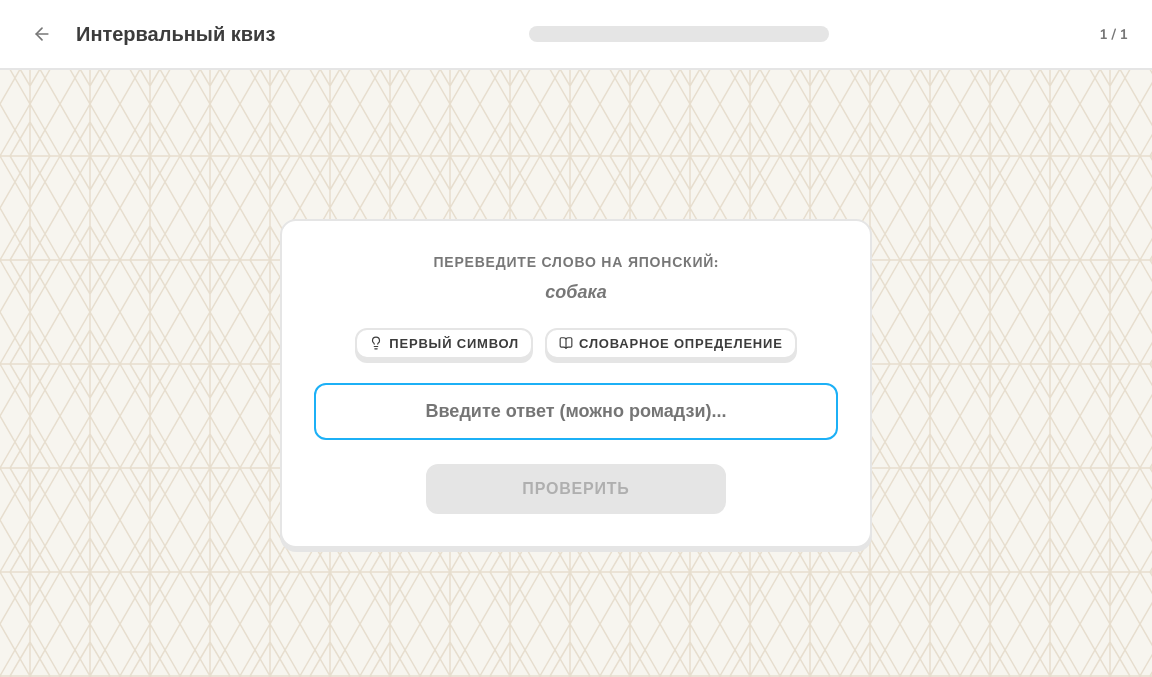
QuizPage Component › loads specific words in ad-hoc mode even if not due
The width and height of the screenshot is (1152, 677).
Expected: the text "Переведите слово на японский:" is shown, left=433, top=252, right=719, bottom=272
Expected: the text "собака" is shown, left=545, top=280, right=607, bottom=304
Type "ねко" into the field with placeholder "Введите ответ (можно ромадзи)...".
click(576, 411); type("ねко")  # box left=314, top=382, right=838, bottom=440
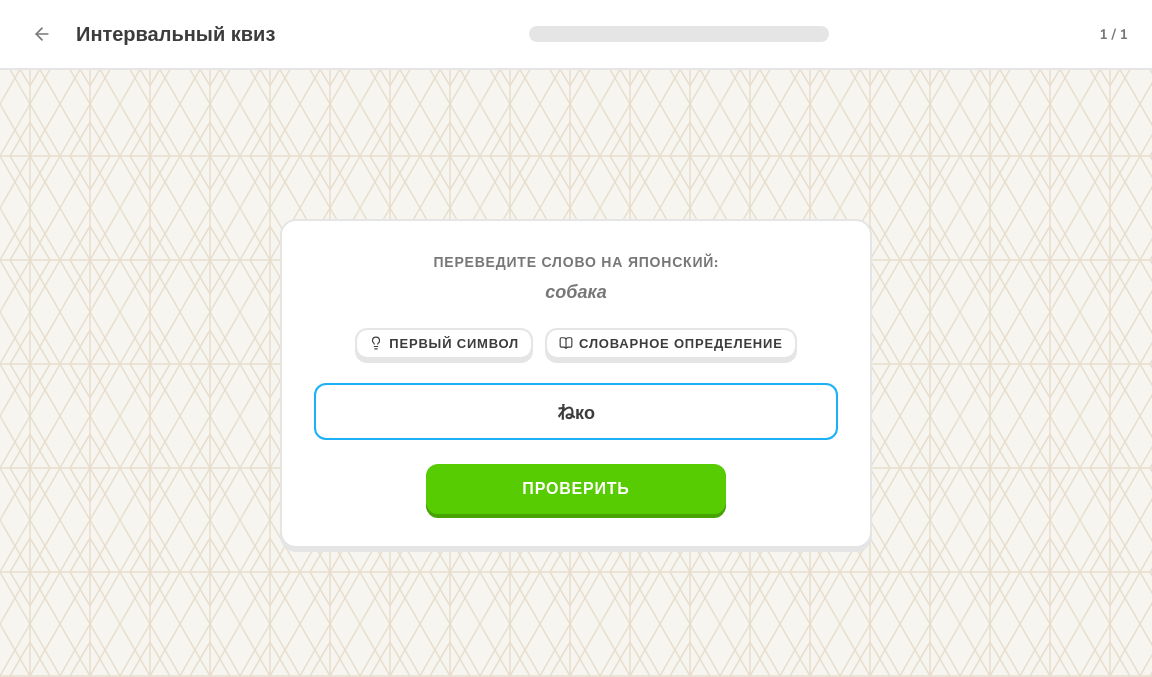
Click check
Click the button "Проверить".
click(576, 488)  # box left=426, top=464, right=726, bottom=514
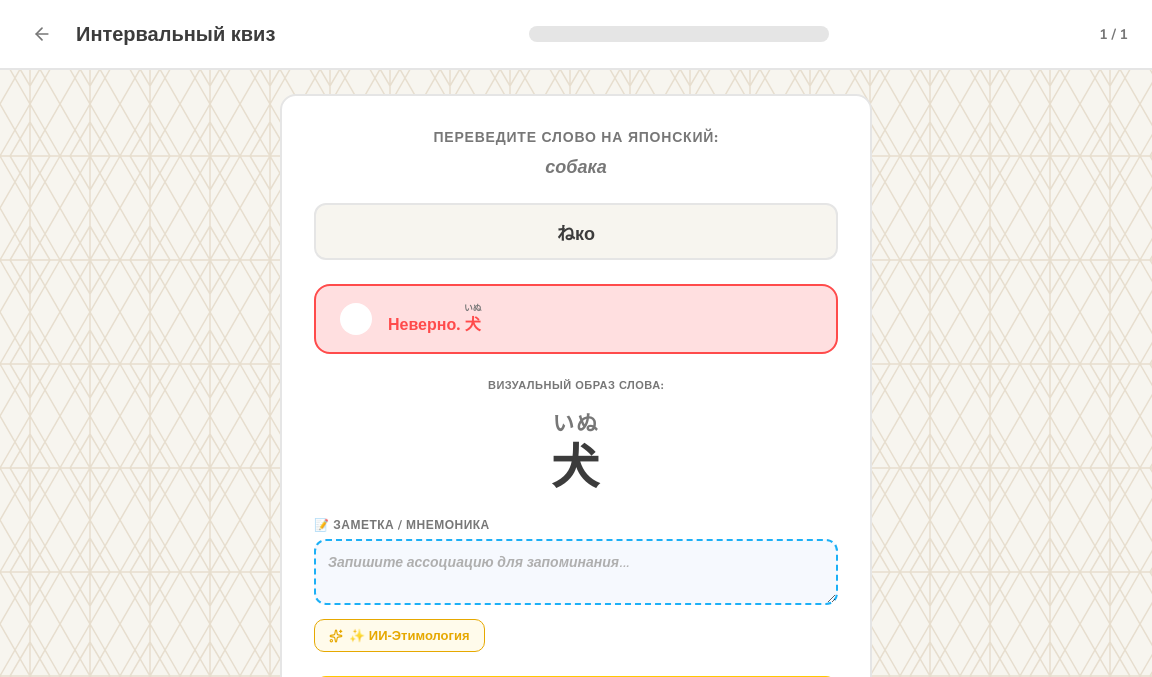
Result: the text "Неверно" is shown at left=388, top=314, right=465, bottom=336
Result: the text "いぬ" is shown at left=464, top=302, right=482, bottom=315
